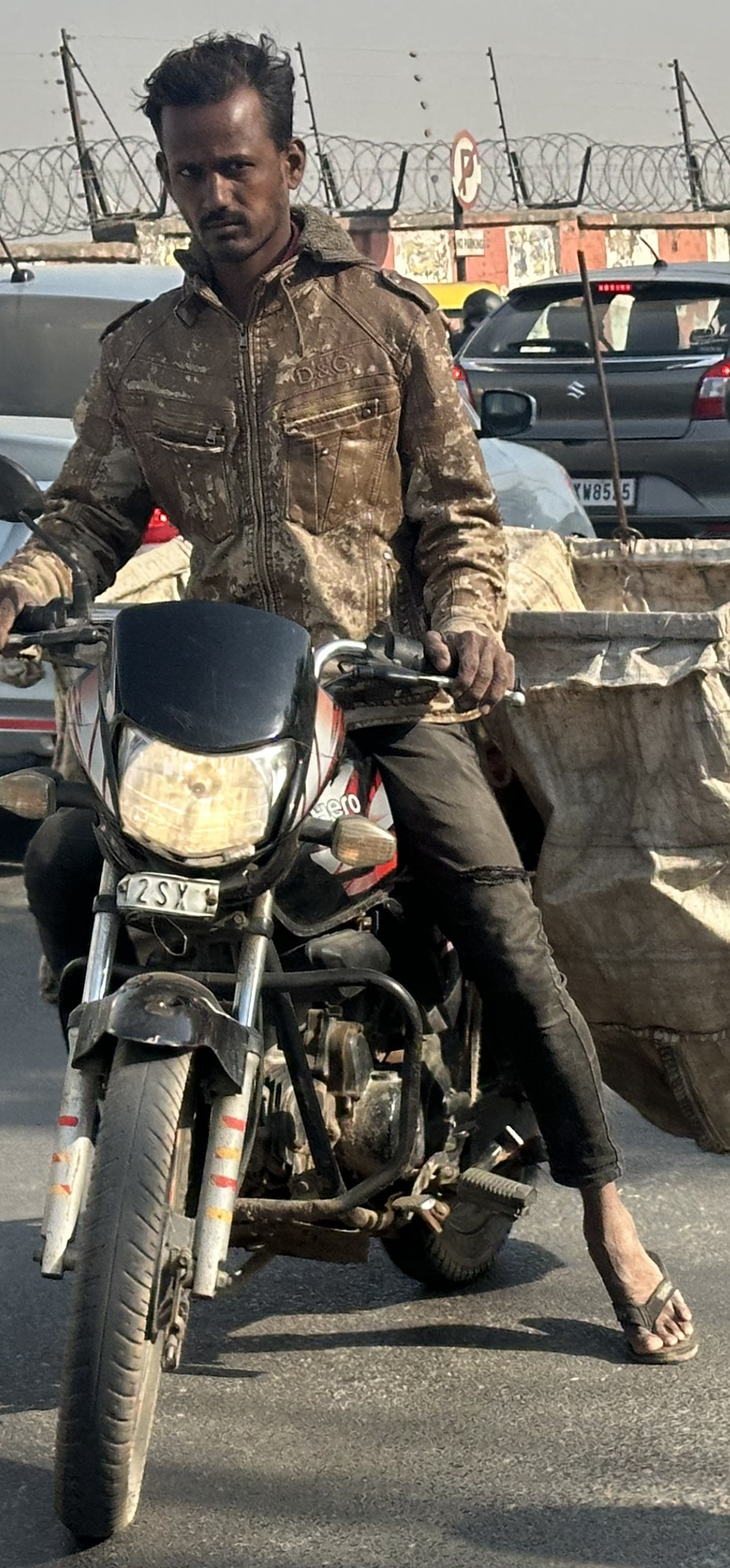BikeWithRider: (0, 23, 708, 1556)
NoHelmet: (119, 23, 317, 280)
